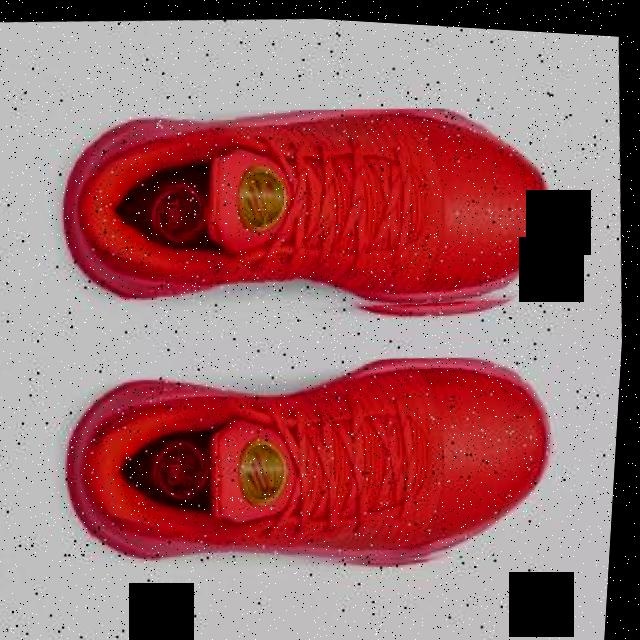shoe: (53, 326, 569, 590), (51, 77, 564, 342)
